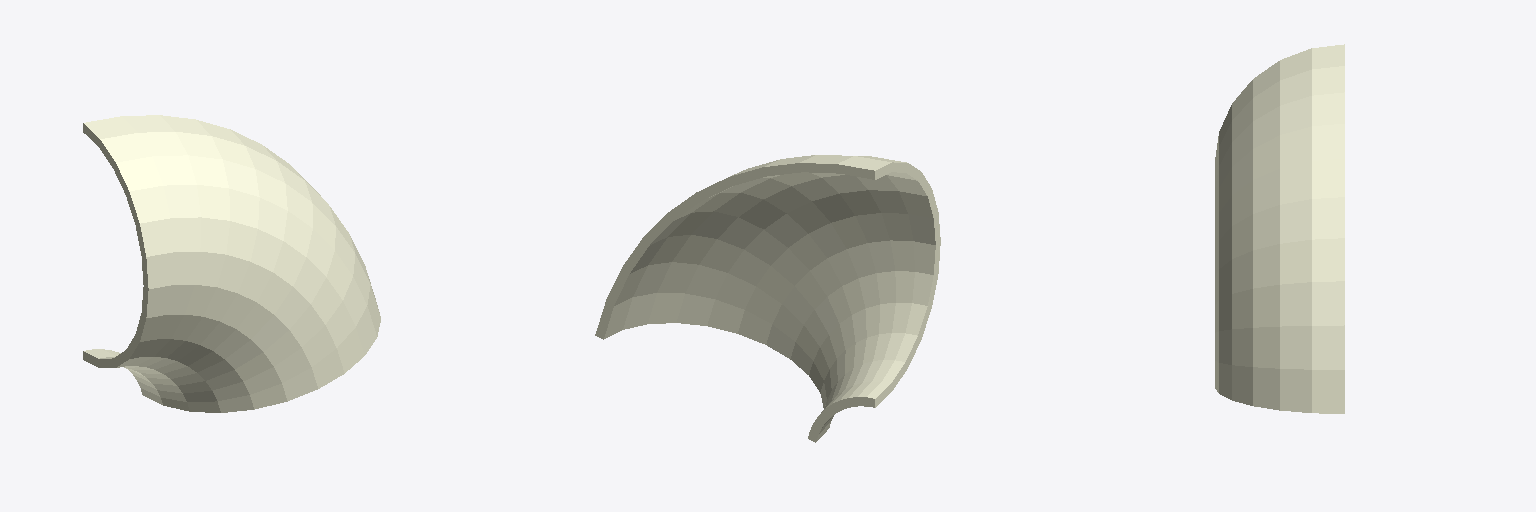
Rendered from section_031.obj.
3 renders of one model, left to right at view 1: azimuth 30°, elevation 25°; view 2: azimuth 150°, elevation 25°; view 3: azimuth 270°, elevation 25°, orthographic.
Bounding box in the file's own units: 32.15 × 31.42 × 13.